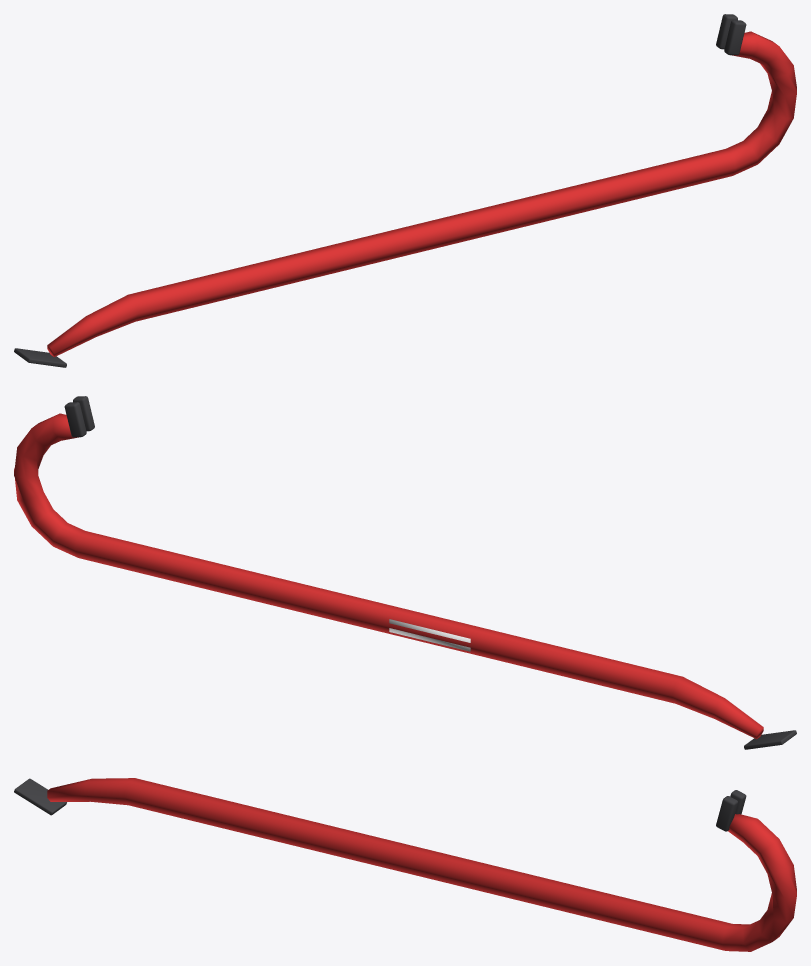
Rendered from SM_Crowbar.glb.
3 views of the same model, one above another, from view 1: azimuth 30°, elevation 25°; view 2: azimuth 150°, elevation 25°; view 3: azimuth 330°, elevation 25° (orthographic).
Parts seen in each view (by area): view 1: SM_Crowbar; view 2: SM_Crowbar; view 3: SM_Crowbar.
Boxes of the visible parts, <box> form: SM_Crowbar: <box>14,14,796,367</box>; SM_Crowbar: <box>14,396,796,749</box>; SM_Crowbar: <box>14,778,796,951</box>.
Size of the model in its own units: 0.7662 by 0.1699 by 0.026.
